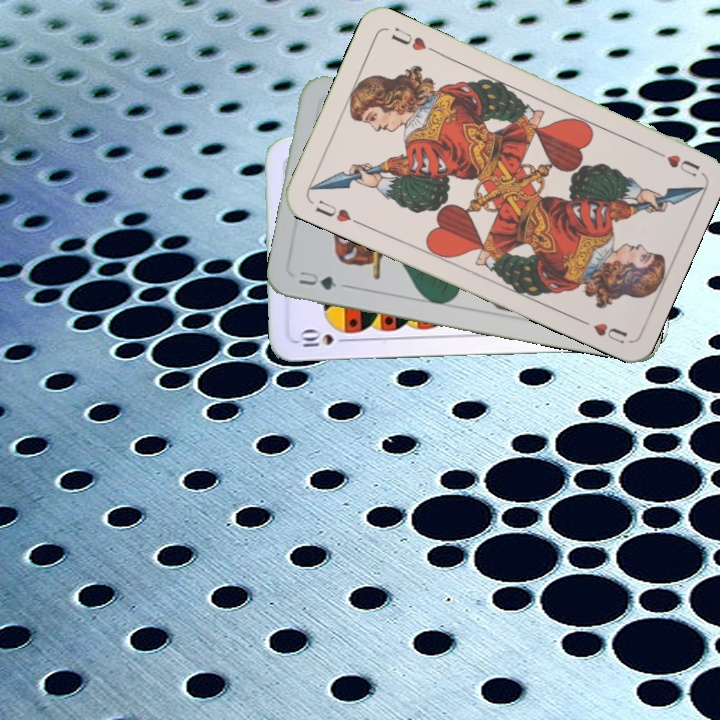GU: (295, 267, 339, 293)
HU: (647, 144, 702, 180), (310, 195, 363, 228)
S10: (295, 328, 353, 349)
